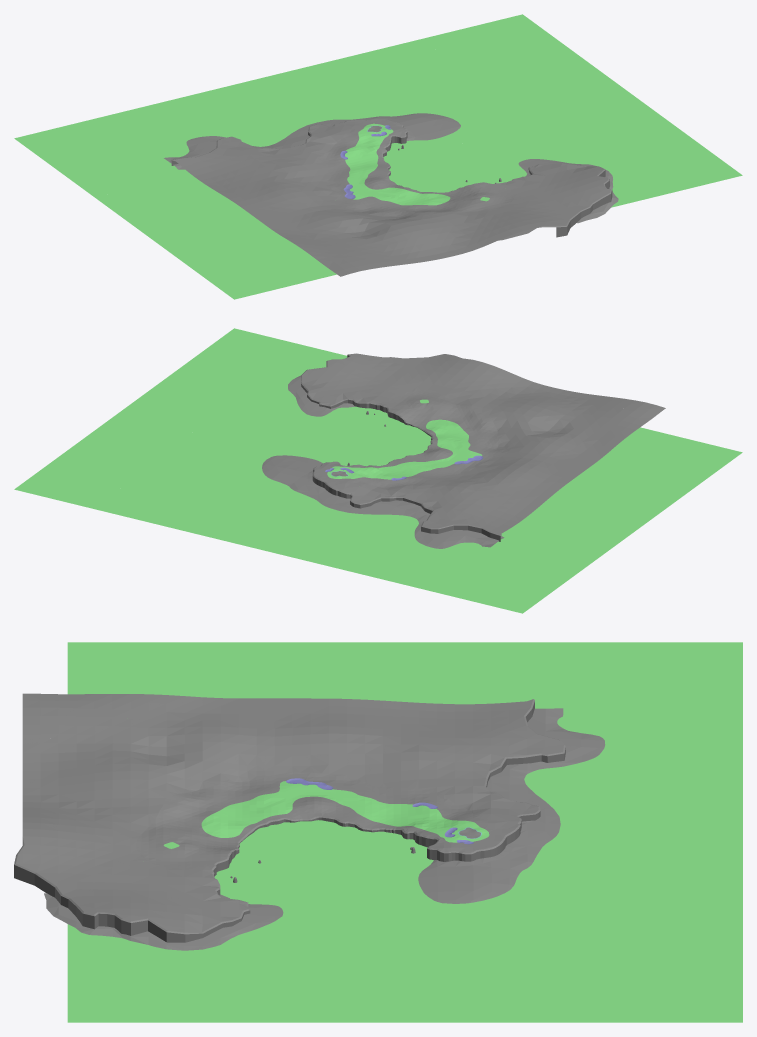
The model's file is glf_course_fc5.glb.
The picture shows the model from 3 angles, top to bottom: view 1: azimuth 30°, elevation 25°; view 2: azimuth 150°, elevation 25°; view 3: azimuth 270°, elevation 25°; orthographic projection. The views are drawn at different scales.
Visible parts, largest first — view 1: collision_0x0007, collision_0x0004, collision_0x0002, collision_0x0010, collision_0x0001, collision_0x000c; view 2: collision_0x0007, collision_0x0004, collision_0x0002, collision_0x0010, collision_0x0001, collision_0x000c; view 3: collision_0x0007, collision_0x0004, collision_0x0010, collision_0x0002, collision_0x000c, collision_0x0001.
Part boxes in pixels (box(x1,y1,x2,y2)): collision_0x0007: box(14, 14, 742, 299); collision_0x0004: box(172, 120, 610, 276); collision_0x0002: box(323, 119, 513, 216); collision_0x0010: box(164, 113, 618, 223); collision_0x0001: box(345, 123, 489, 205); collision_0x000c: box(171, 121, 612, 237); collision_0x0007: box(14, 328, 742, 613); collision_0x0004: box(302, 353, 665, 535); collision_0x0002: box(314, 391, 498, 487); collision_0x0010: box(262, 375, 504, 548); collision_0x0001: box(327, 399, 482, 479); collision_0x000c: box(301, 354, 501, 541); collision_0x0007: box(67, 642, 742, 1022); collision_0x0004: box(16, 693, 563, 932); collision_0x0010: box(44, 708, 605, 950); collision_0x0002: box(136, 772, 505, 867); collision_0x000c: box(14, 699, 565, 942); collision_0x0001: box(163, 781, 489, 848).
Bounding box in the file's own units: 10000 × 384 × 8097.
